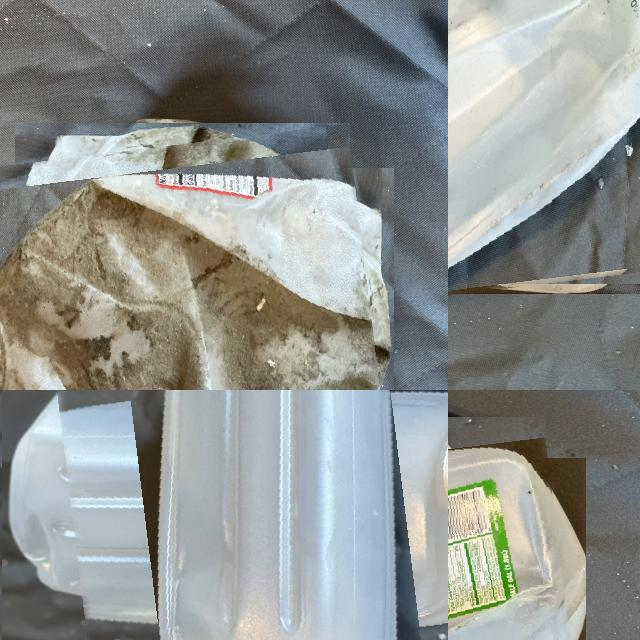milk-jug: (0, 134, 382, 390), (61, 390, 448, 640), (448, 0, 640, 298), (448, 427, 575, 640)
